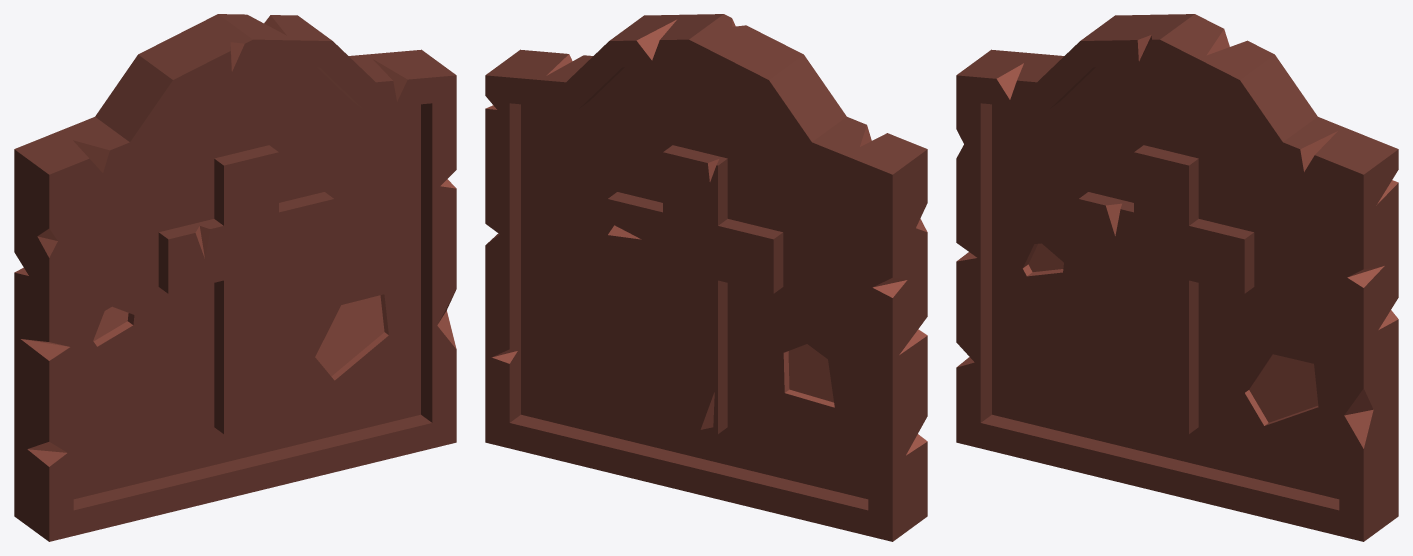
The model's file is Tombstone_5_Red.fbx.
3 renders of one model, left to right at view 1: azimuth 30°, elevation 25°; view 2: azimuth 150°, elevation 25°; view 3: azimuth 330°, elevation 25°, orthographic.
Parts seen in each view (by area): view 1: Tombstone_5_Red_Part_1, Tombstone_5_Red_Part_2; view 2: Tombstone_5_Red_Part_1, Tombstone_5_Red_Part_2; view 3: Tombstone_5_Red_Part_1, Tombstone_5_Red_Part_2.
Boxes of the visible parts, box(x1,y1,x2,y2) form: Tombstone_5_Red_Part_1: box(14, 14, 456, 541); Tombstone_5_Red_Part_2: box(14, 15, 456, 466); Tombstone_5_Red_Part_1: box(485, 14, 927, 541); Tombstone_5_Red_Part_2: box(486, 18, 927, 455); Tombstone_5_Red_Part_1: box(956, 14, 1398, 541); Tombstone_5_Red_Part_2: box(956, 29, 1398, 448).
Bounding box in the file's own units: 125 × 133 × 18.59.
